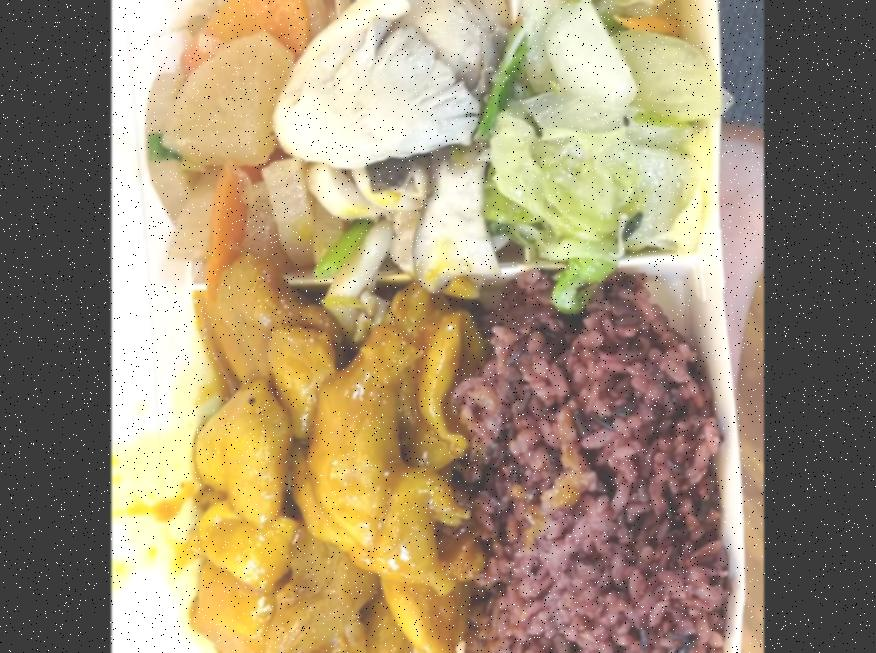big grilled chicken leg: (159, 0, 739, 653)
braised fish: (457, 280, 731, 653)
braised fish fillet: (280, 0, 504, 287), (483, 0, 706, 273), (143, 0, 324, 277)
braised pork: (192, 260, 464, 653)
